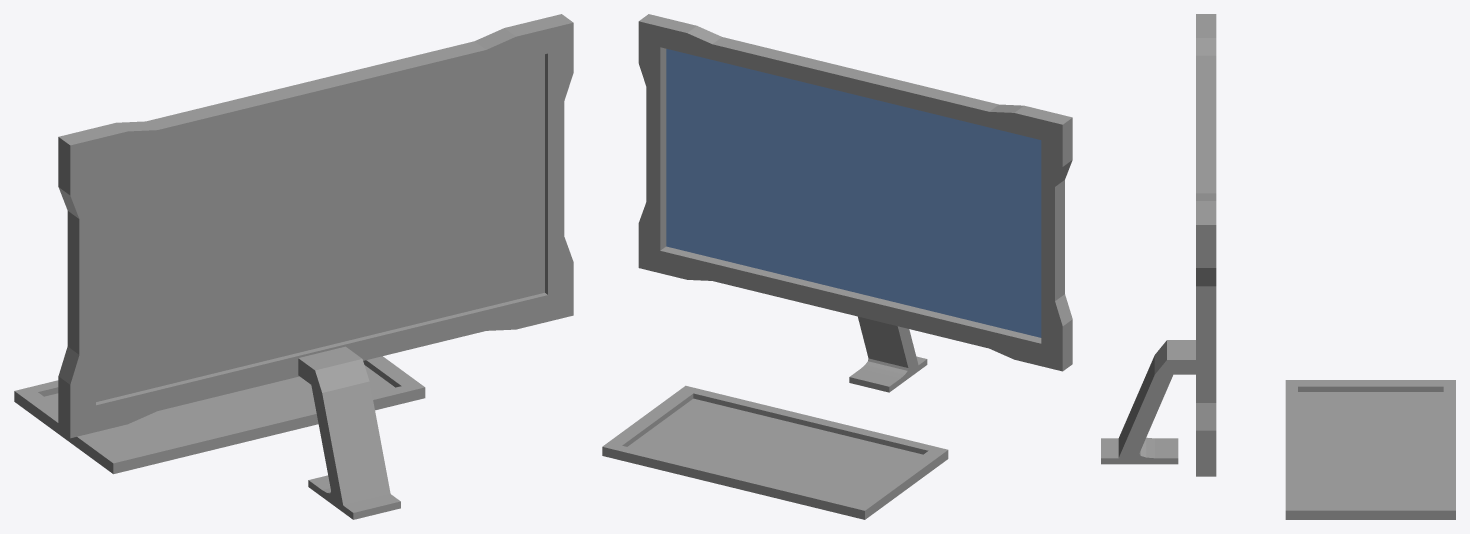
File: Computer-blue.fbx
The picture shows the model from 3 angles, left to right: view 1: azimuth 30°, elevation 25°; view 2: azimuth 150°, elevation 25°; view 3: azimuth 270°, elevation 25°; orthographic projection. The views are drawn at different scales.
Visible parts, largest first — view 1: monitor, keyboard; view 2: monitor, keyboard; view 3: keyboard, monitor.
Part boxes in pixels (bbox=[...]): monitor: bbox=[58, 14, 573, 519]; keyboard: bbox=[14, 356, 425, 474]; monitor: bbox=[638, 14, 1072, 392]; keyboard: bbox=[602, 385, 948, 519]; keyboard: bbox=[1285, 380, 1455, 519]; monitor: bbox=[1101, 14, 1216, 476].
Size of the model in its own units: 587 by 435 by 417.
